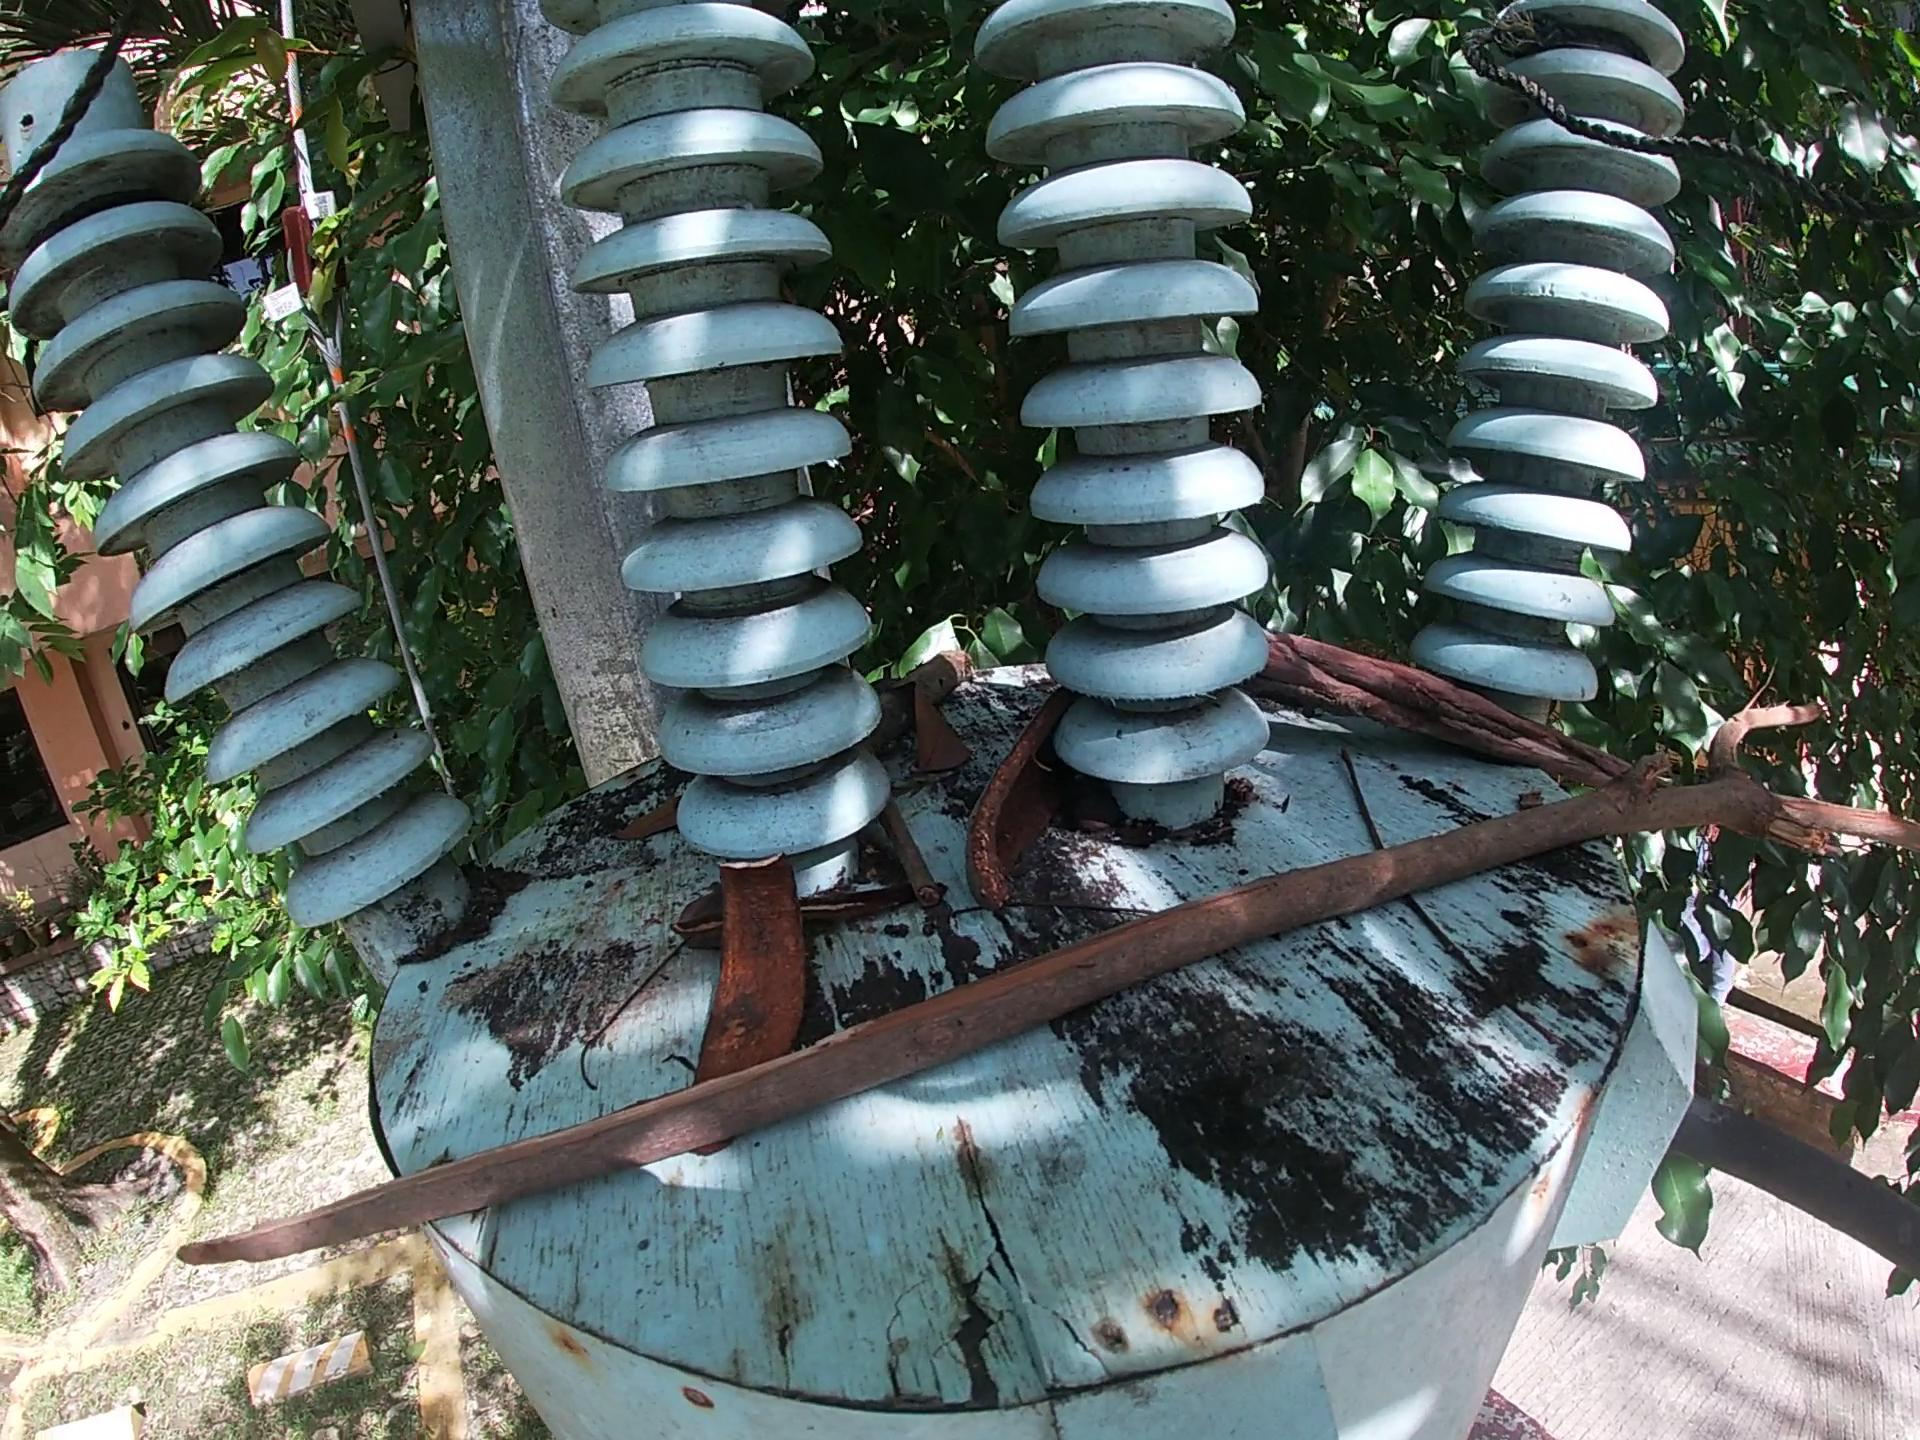leaf: (608, 796, 682, 861), (918, 700, 977, 776), (659, 895, 726, 936)
mahogany fruit: (667, 830, 815, 1089), (960, 650, 1076, 929)
tree branch: (154, 675, 1920, 1298), (1259, 626, 1624, 782), (1404, 895, 1584, 1068), (584, 929, 683, 1110), (853, 641, 980, 750), (884, 800, 955, 917), (1324, 737, 1398, 846), (810, 886, 901, 923), (949, 909, 1182, 920)
